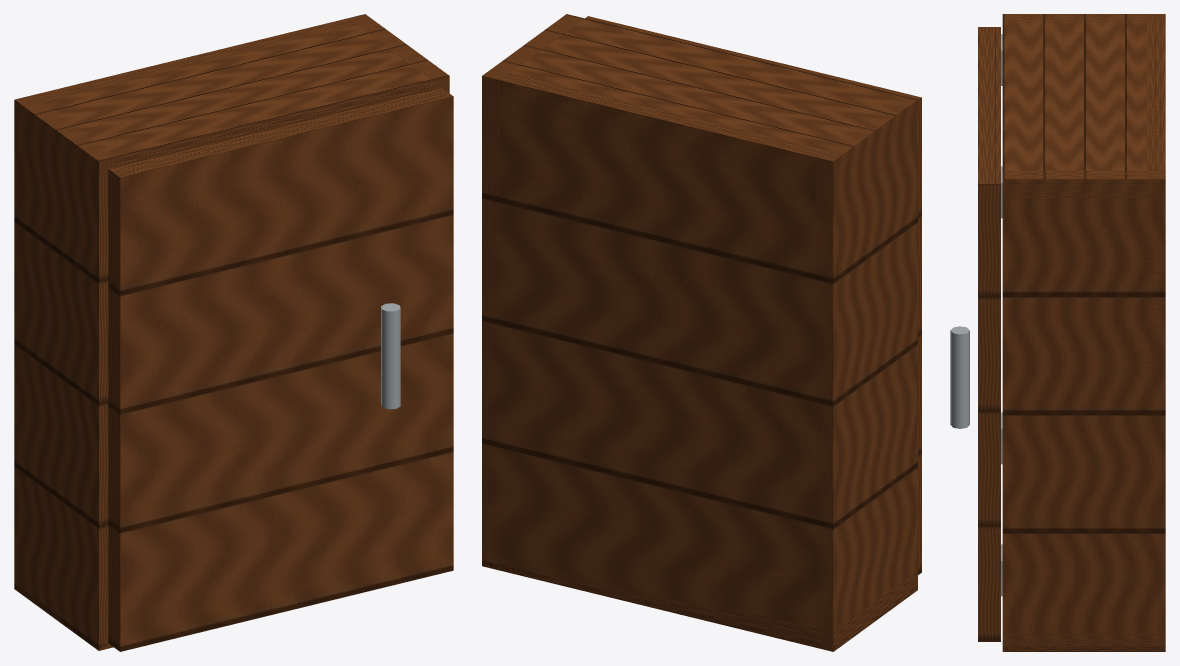
The model's file is rural-scavenging-settlements-utility-meter-cabinet-1abb63af__26608.glb.
3 renders of one model, left to right at view 1: azimuth 30°, elevation 25°; view 2: azimuth 150°, elevation 25°; view 3: azimuth 270°, elevation 25°, orthographic. The views are drawn at different scales.
Parts seen in each view (by area): view 1: cabinet-door-0/wood, utility-meter-cabinet; view 2: utility-meter-cabinet, cabinet-door-0/wood; view 3: utility-meter-cabinet, cabinet-door-0/wood.
Part boxes in pixels (x1,y1,x2,y2): cabinet-door-0/wood: (108, 87, 453, 651); utility-meter-cabinet: (14, 14, 449, 650); utility-meter-cabinet: (482, 14, 917, 651); cabinet-door-0/wood: (585, 16, 921, 574); utility-meter-cabinet: (950, 14, 1165, 651); cabinet-door-0/wood: (978, 27, 1000, 641).
Bounding box in the file's own units: 0.6 × 0.8 × 0.33.
2 materials, 1 textured.
